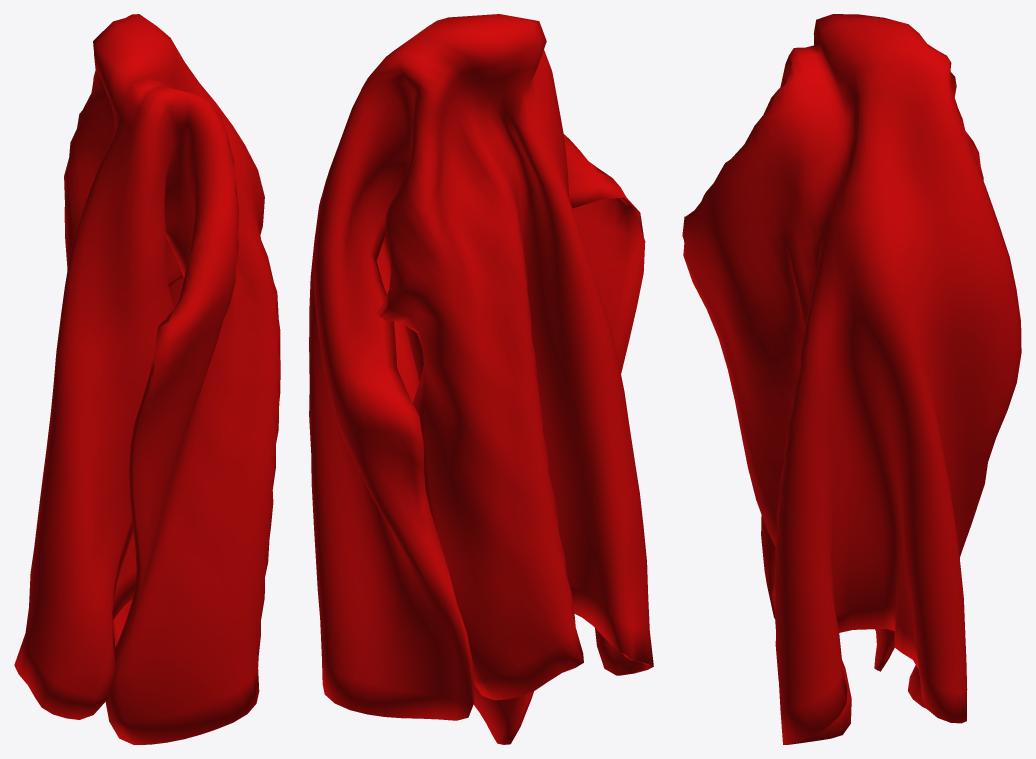
Rendered from Kain1.fbx.
The picture shows the model from 3 angles, left to right: view 1: azimuth 30°, elevation 25°; view 2: azimuth 150°, elevation 25°; view 3: azimuth 270°, elevation 25°; orthographic projection. The views are drawn at different scales.
Parts seen in each view (by area): view 1: Kain1_LOD0; view 2: Kain1_LOD0; view 3: Kain1_LOD0.
Boxes of the visible parts, x1,y1,x2,y2 form: Kain1_LOD0: [14, 14, 280, 744]; Kain1_LOD0: [309, 14, 653, 744]; Kain1_LOD0: [682, 14, 1021, 744].
Size of what is drawn, in the model's own units: 36.01 by 88.4 by 37.88.
